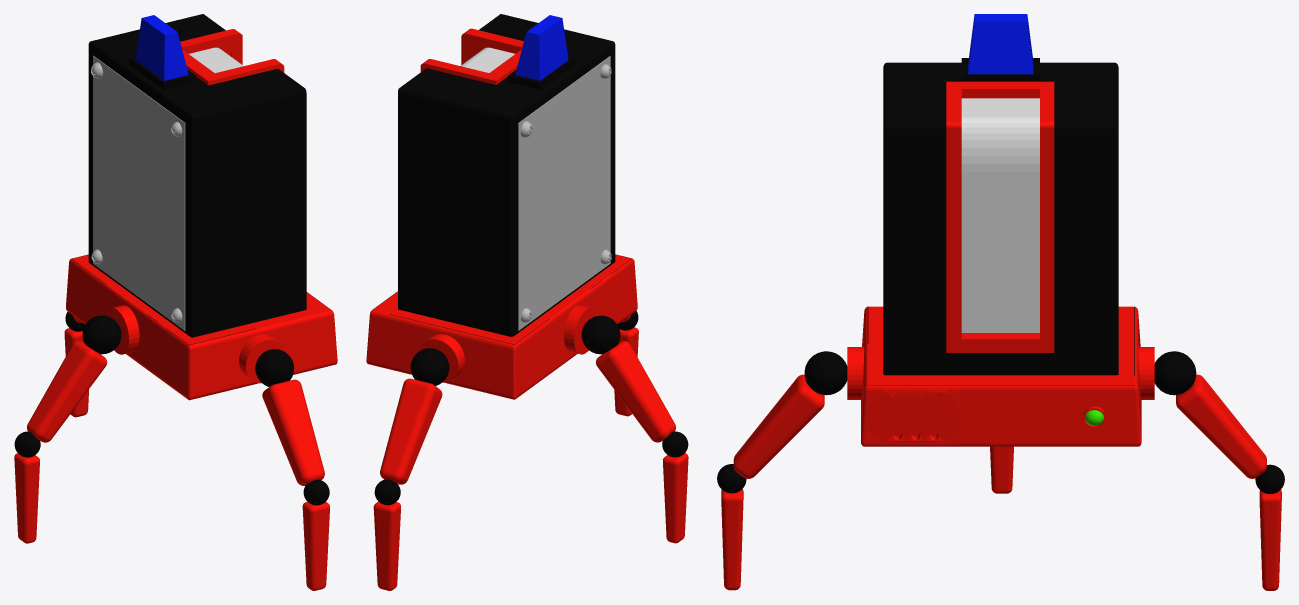
File: robot2.fbx
The picture shows the model from 3 angles, left to right: view 1: azimuth 30°, elevation 25°; view 2: azimuth 150°, elevation 25°; view 3: azimuth 270°, elevation 25°; orthographic projection. The views are drawn at different scales.
Visible parts, largest first — view 1: Corous, RLeg, BLeg, RLeg2, BLeg2, LLeg2; view 2: Corous, LLeg, BLeg, LLeg2, BLeg2, RLeg2; view 3: Corous, RLeg, LLeg, LLeg2, RLeg2, BLeg2.
Part boxes in pixels (x1,y1,x2,y2): Corous: (66, 14, 337, 400); RLeg: (255, 349, 324, 485); BLeg: (27, 315, 121, 442); RLeg2: (302, 479, 329, 590); BLeg2: (14, 431, 40, 543); LLeg2: (64, 312, 89, 417); Corous: (366, 14, 637, 399); LLeg: (380, 348, 449, 484); BLeg: (581, 315, 675, 442); LLeg2: (373, 479, 400, 590); BLeg2: (662, 431, 688, 543); RLeg2: (614, 311, 638, 416); Corous: (847, 14, 1154, 446); RLeg: (733, 351, 847, 478); LLeg: (1154, 351, 1266, 478); LLeg2: (1255, 464, 1284, 590); RLeg2: (717, 464, 746, 590); BLeg2: (990, 446, 1013, 493).
Size of the model in its own units: 164 by 287 by 268.
